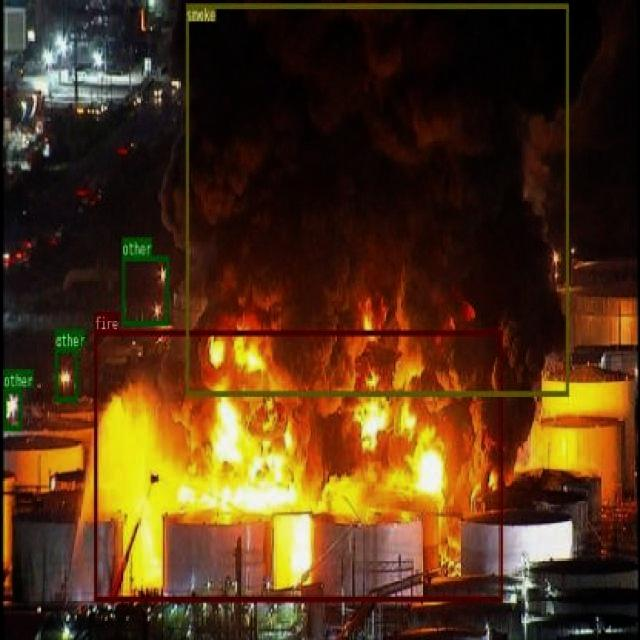fire: (94, 329, 502, 600)
smoke: (186, 2, 568, 395)
